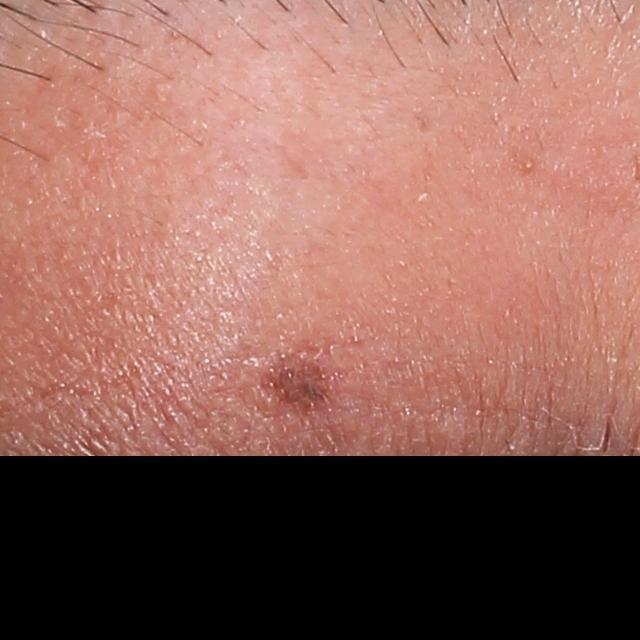nevus: (264, 359, 329, 414)
